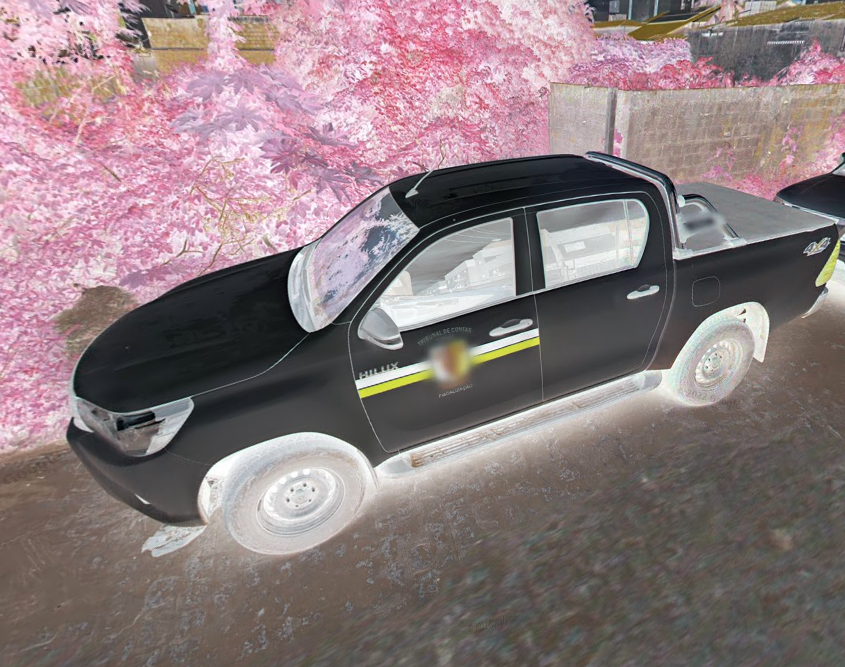car: (62, 147, 845, 558)
